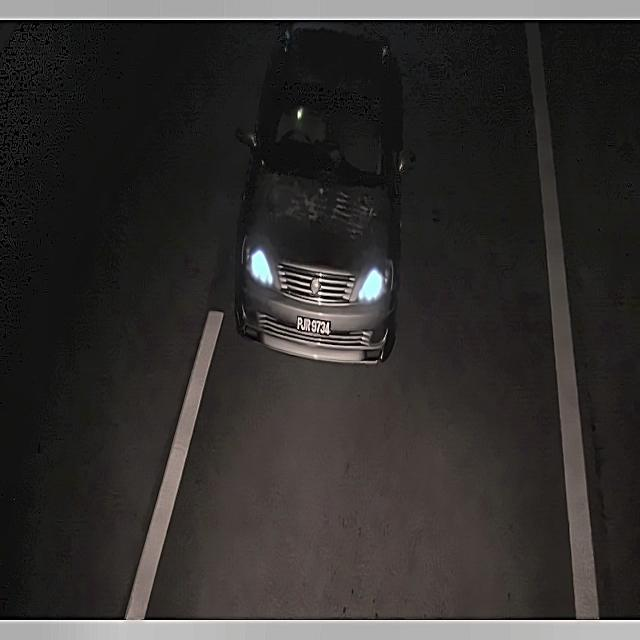car: (291, 309, 337, 341)
